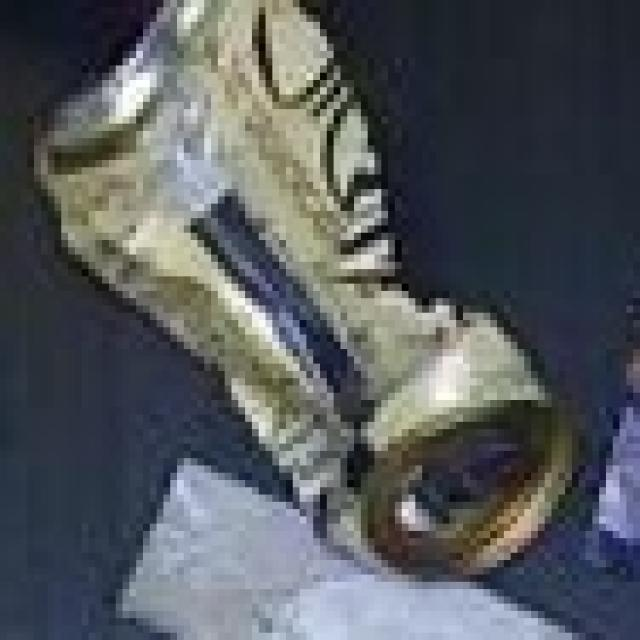can: (5, 0, 634, 605)
